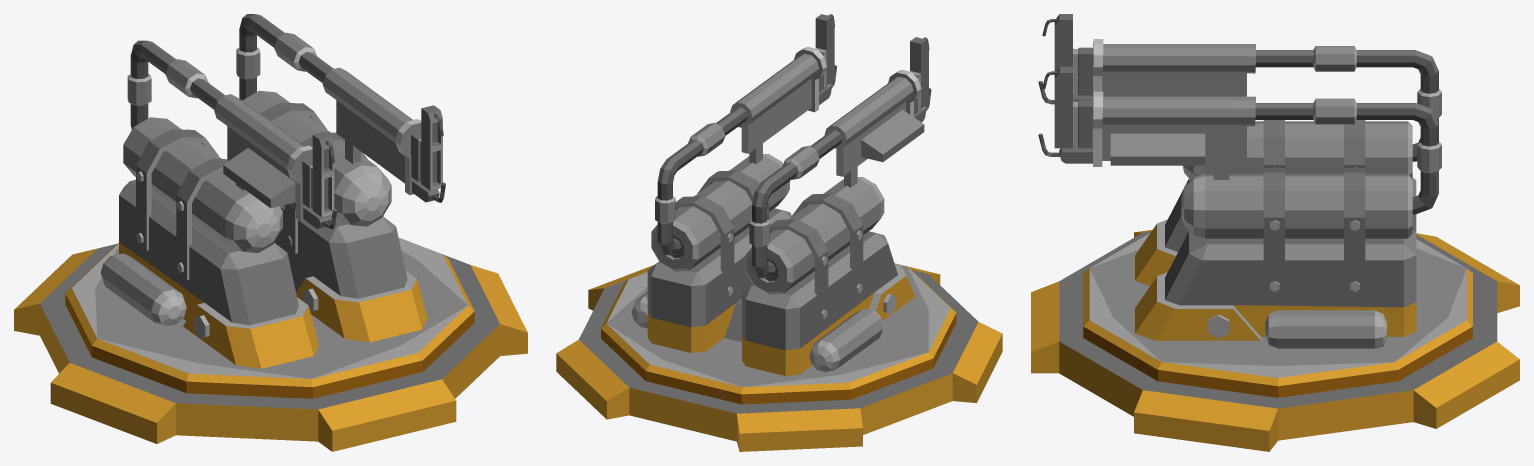
Rendered from tower_napalm_yellow_3.fbx.
3 views of the same model, side by side, from view 1: azimuth 30°, elevation 25°; view 2: azimuth 150°, elevation 25°; view 3: azimuth 270°, elevation 25° (orthographic). The views are drawn at different scales.
Parts seen in each view (by area): view 1: top_napalm_yellow_3, tower_napalm_yellow_3; view 2: top_napalm_yellow_3, tower_napalm_yellow_3; view 3: top_napalm_yellow_3, tower_napalm_yellow_3.
Boxes of the visible parts, x1,y1,x2,y2 form: top_napalm_yellow_3: (100,14,445,368); tower_napalm_yellow_3: (14,238,527,451); top_napalm_yellow_3: (631,14,931,375); tower_napalm_yellow_3: (556,263,1002,451); top_napalm_yellow_3: (1038,14,1441,348); tower_napalm_yellow_3: (1031,230,1519,451).
Bounding box in the file's own units: 190 × 122 × 181.
